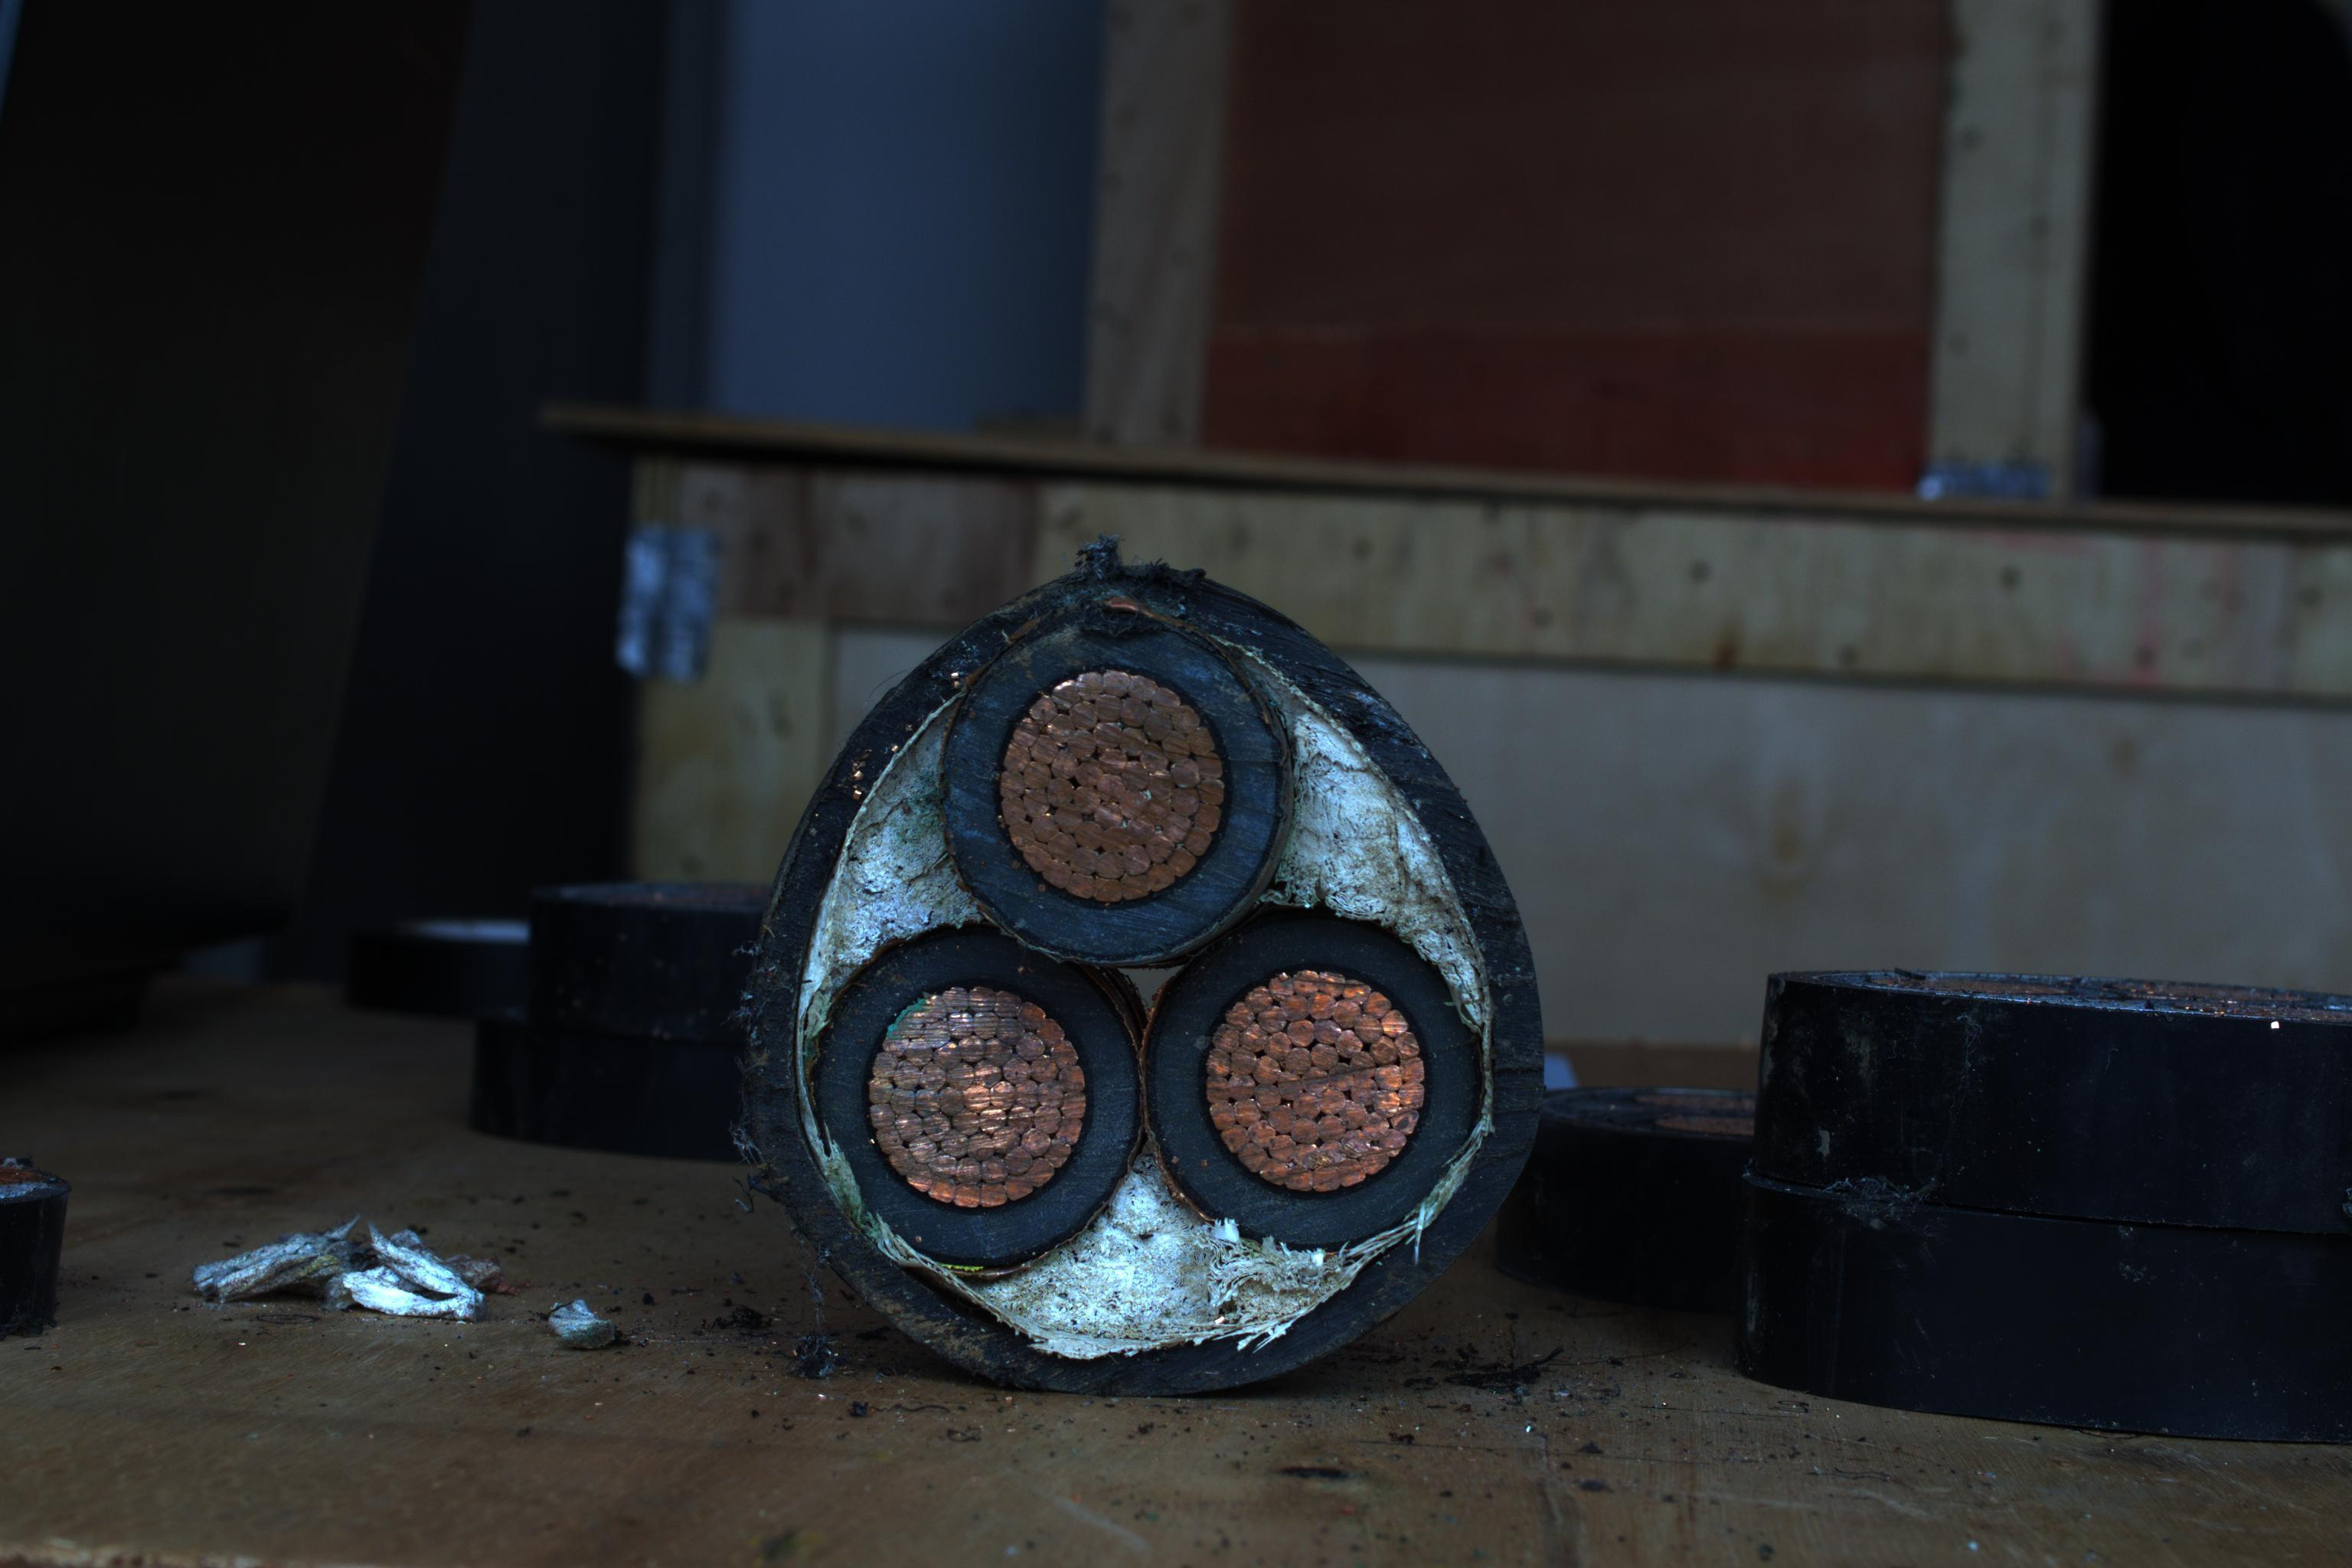ZA_YJV_8.7_10kV_3x400: (758, 555, 1547, 1389)
